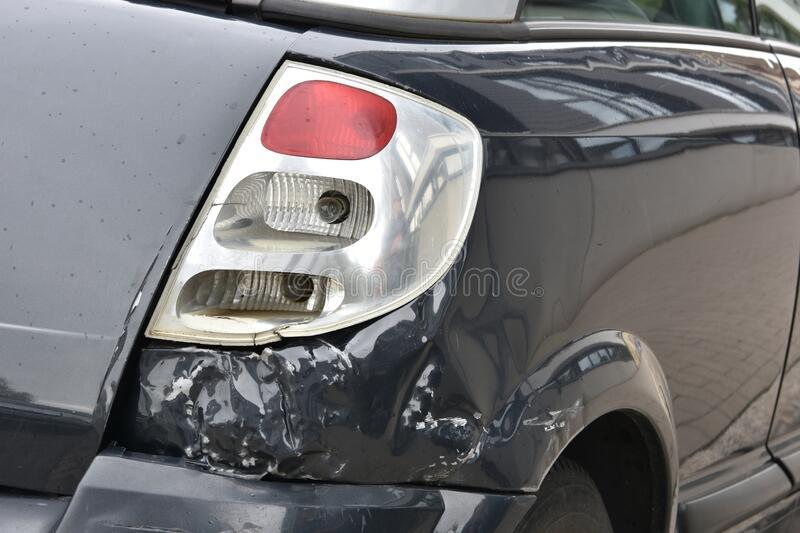Taillight-Damage: (129, 29, 496, 357)
quaterpanel-dent: (127, 339, 779, 484)
